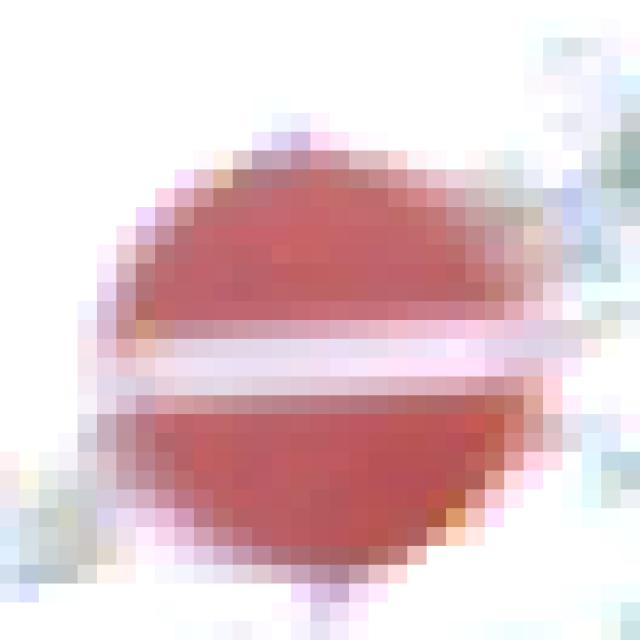No Entry: (117, 114, 544, 547)
